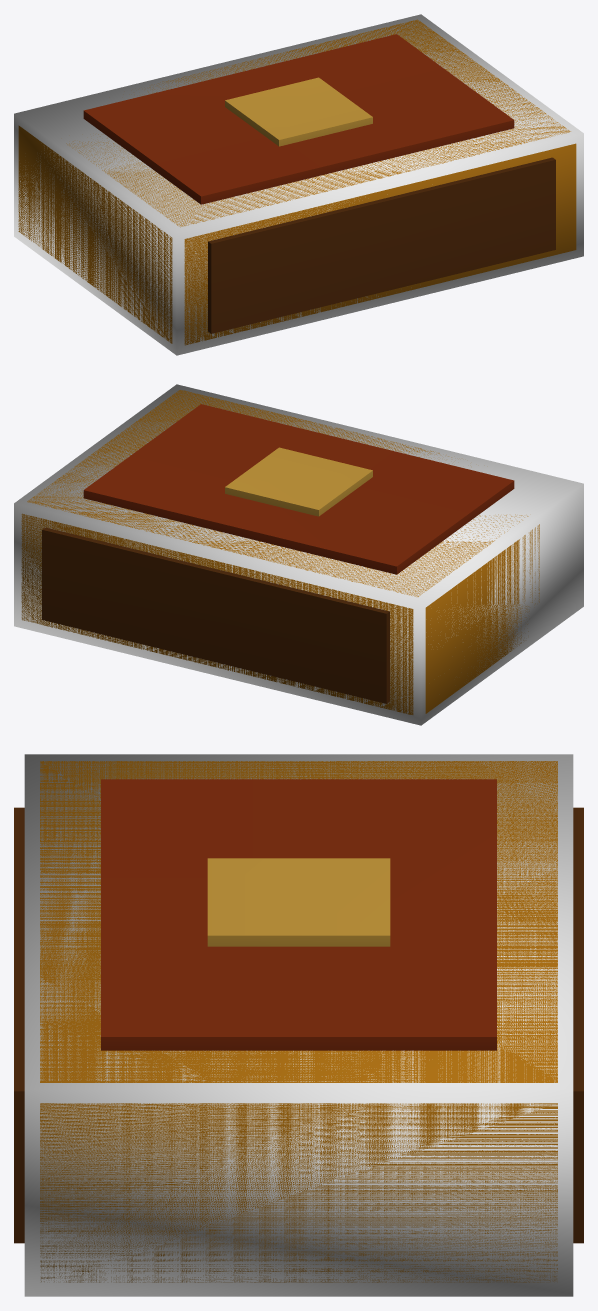
Rendered from cerillas.glb.
3 views of the same model, one above another, from view 1: azimuth 30°, elevation 25°; view 2: azimuth 150°, elevation 25°; view 3: azimuth 270°, elevation 25° (orthographic). The views are drawn at different scales.
Parts seen in each view (by area): view 1: caja, cerillas-colcaja; view 2: caja, cerillas-colcaja; view 3: caja, cerillas-colcaja.
Part boxes in pixels (<box>): caja: <box>18,19,576,345</box>; cerillas-colcaja: <box>14,14,583,355</box>; caja: <box>21,390,539,714</box>; cerillas-colcaja: <box>14,384,583,725</box>; caja: <box>14,761,583,1282</box>; cerillas-colcaja: <box>24,754,573,1296</box>.
Size of the model in its own units: 0.052 by 0.0168 by 0.0374.
